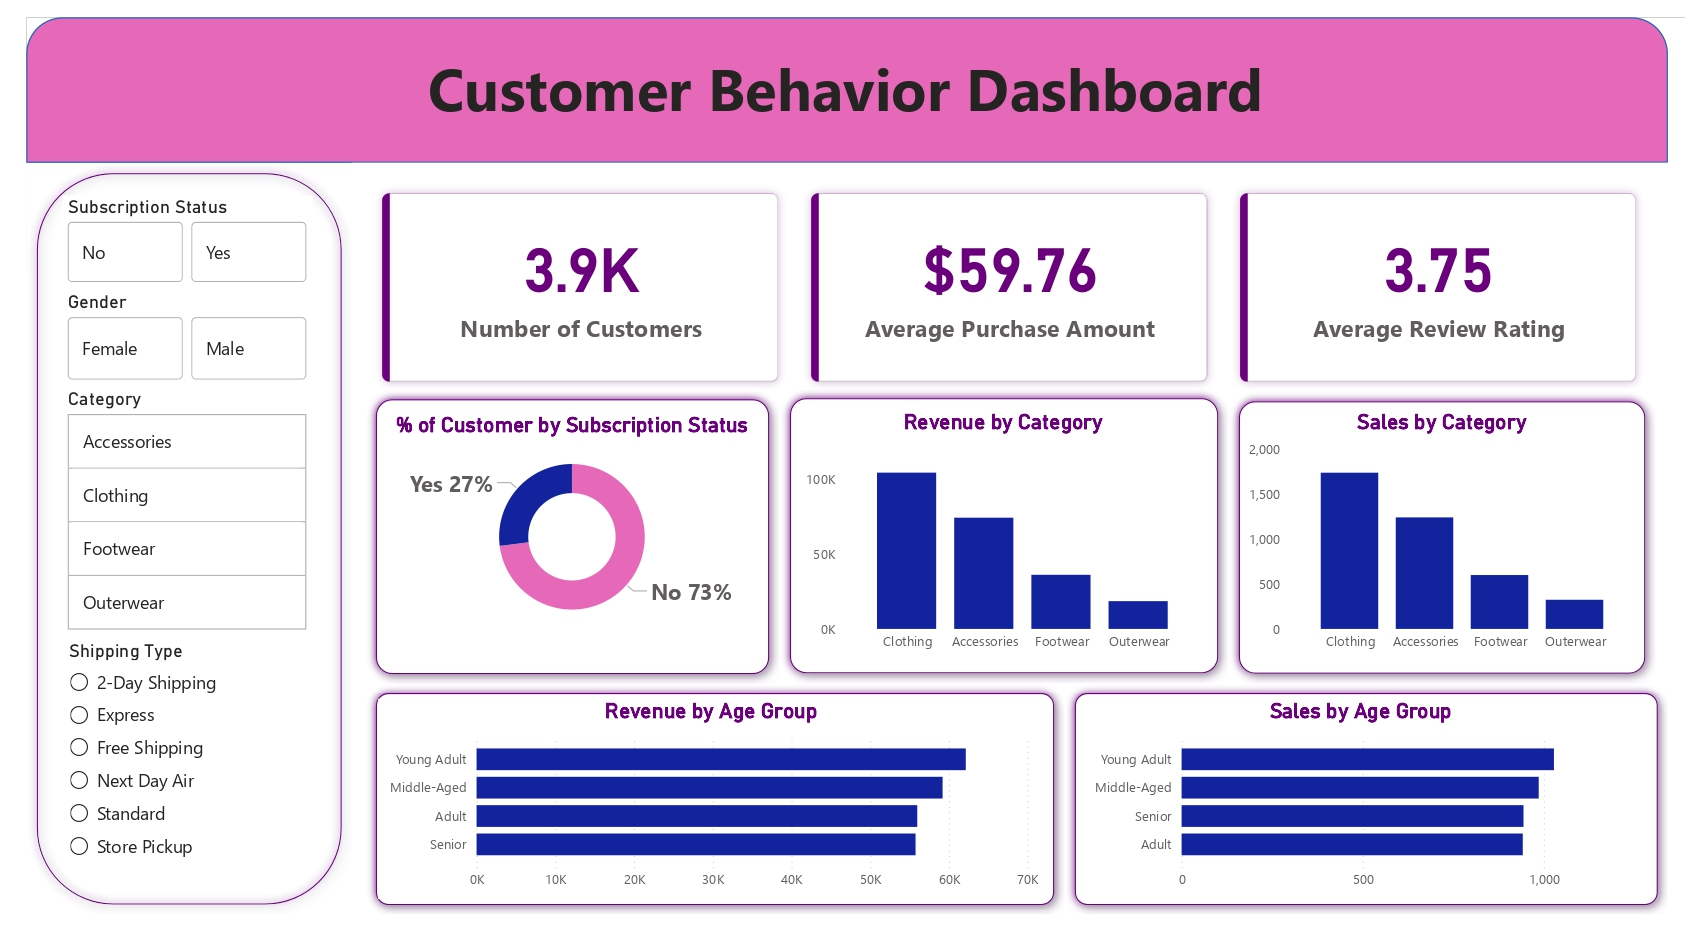

The dashboard page shown, as its layout file describes it:
{"tool":"powerbi","page":{"name":"Page 1","canvas":[1500,820],"ordinal":0},"visuals":[{"type":"shape","box":[0,0,1500,132.9],"z":0},{"type":"cardVisual","fields":{"Data":["public customer.Number of Customers","public customer.Average Purchase Amount","public customer.Average Review Rating"]},"box":[297.8,132.6,1202.6,228.6],"z":1000},{"type":"textbox","box":[240,22.5,1017.5,87.5],"z":2000},{"type":"shape","box":[310,340,377.6,268.9],"z":3000},{"type":"donutChart","title":"% of Customer by Subscription Status","fields":{"Category":["public customer.subscription_status"],"Y":["CountNonNull(public customer.customer_id)"]},"box":[321.4,361.4,354.3,204.3],"z":4000},{"type":"shape","box":[688.2,338,410,270],"z":5000},{"type":"shape","box":[1098.9,341.2,390,267.5],"z":6000},{"type":"clusteredColumnChart","title":"Revenue by Category","fields":{"Y":["Sum(public customer.purchase_amount)"],"Category":["public customer.category"]},"box":[707.1,358.6,371.4,230],"z":7000},{"type":"clusteredColumnChart","title":"Sales by Category","fields":{"Category":["public customer.category"],"Y":["CountNonNull(public customer.customer_id)"]},"box":[1111.4,358.6,364.3,230],"z":8000},{"type":"shape","box":[0,132.9,297.1,687.1],"z":9000},{"type":"advancedSlicerVisual","fields":{"Values":["public customer.subscription_status"]},"box":[32.9,162.9,228.6,84.3],"z":10000},{"type":"advancedSlicerVisual","fields":{"Values":["public customer.gender"]},"box":[32.9,249.5,228.6,87.1],"z":11000},{"type":"advancedSlicerVisual","fields":{"Values":["public customer.category"]},"box":[32.9,339,228.6,227.1],"z":12000},{"type":"listSlicer","fields":{"Values":["public customer.shipping_type"]},"box":[34.3,568.6,227.1,212.9],"z":13000},{"type":"shape","box":[310,608.6,638.6,211.4],"z":14000},{"type":"clusteredBarChart","title":"Revenue by Age Group","fields":{"Y":["Sum(public customer.purchase_amount)"],"Category":["public customer.age_group"]},"box":[321.4,622.9,608.6,182.9],"z":15000},{"type":"shape","box":[948.6,608.6,551.4,211.4],"z":16000},{"type":"clusteredBarChart","title":"Sales by Age Group","fields":{"Category":["public customer.age_group"],"Y":["CountNonNull(public customer.customer_id)"]},"box":[965.7,622.9,507.1,182.9],"z":17000}]}

Visuals, with their boxes in screenshot pixels (x1, y1, x2, y2), scaled from the page's 1500x820 canvas onto the 1685x933 screenshot:
shape: (left=0, top=0, right=1684, bottom=151)
cardVisual - public customer.Number of Customers x public customer.Average Purchase Amount: (left=335, top=151, right=1684, bottom=411)
textbox: (left=270, top=26, right=1413, bottom=125)
shape: (left=348, top=387, right=772, bottom=693)
"% of Customer by Subscription Status" donutChart: (left=361, top=411, right=759, bottom=644)
shape: (left=773, top=385, right=1234, bottom=692)
shape: (left=1234, top=388, right=1673, bottom=693)
"Revenue by Category" clusteredColumnChart: (left=794, top=408, right=1212, bottom=670)
"Sales by Category" clusteredColumnChart: (left=1248, top=408, right=1658, bottom=670)
shape: (left=0, top=151, right=334, bottom=932)
advancedSlicerVisual - public customer.subscription_status: (left=37, top=185, right=294, bottom=281)
advancedSlicerVisual - public customer.gender: (left=37, top=284, right=294, bottom=383)
advancedSlicerVisual - public customer.category: (left=37, top=386, right=294, bottom=644)
listSlicer - public customer.shipping_type: (left=39, top=647, right=294, bottom=889)
shape: (left=348, top=692, right=1066, bottom=932)
"Revenue by Age Group" clusteredBarChart: (left=361, top=709, right=1045, bottom=917)
shape: (left=1066, top=692, right=1684, bottom=932)
"Sales by Age Group" clusteredBarChart: (left=1085, top=709, right=1654, bottom=917)
